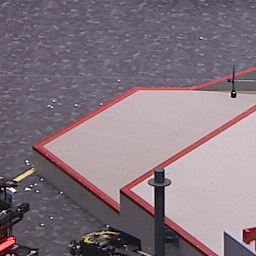Robot: (1, 170, 44, 256), (68, 224, 155, 256)
